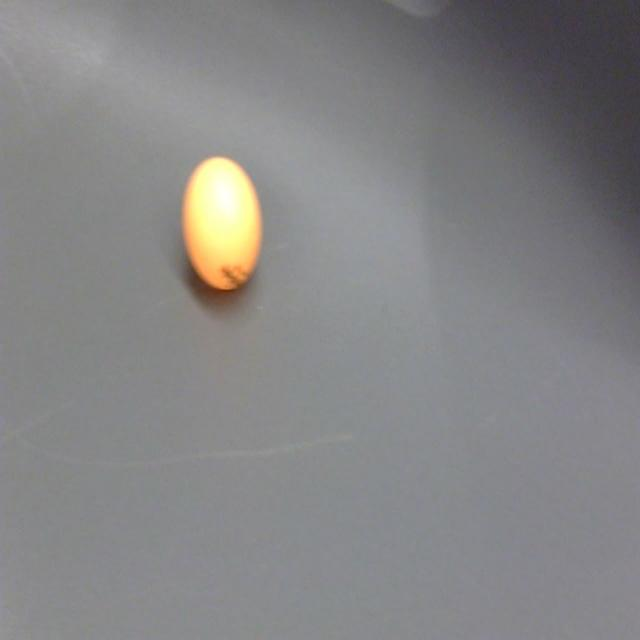ball: (182, 155, 263, 294)
